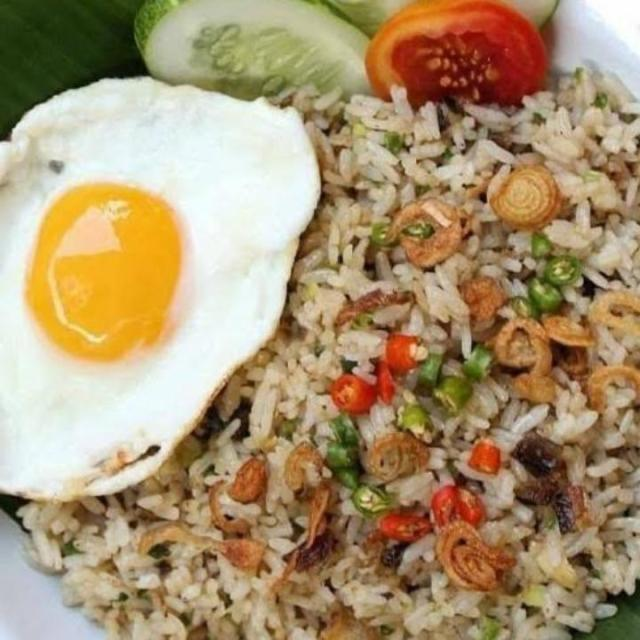Nasi Goreng: (22, 105, 640, 640)
